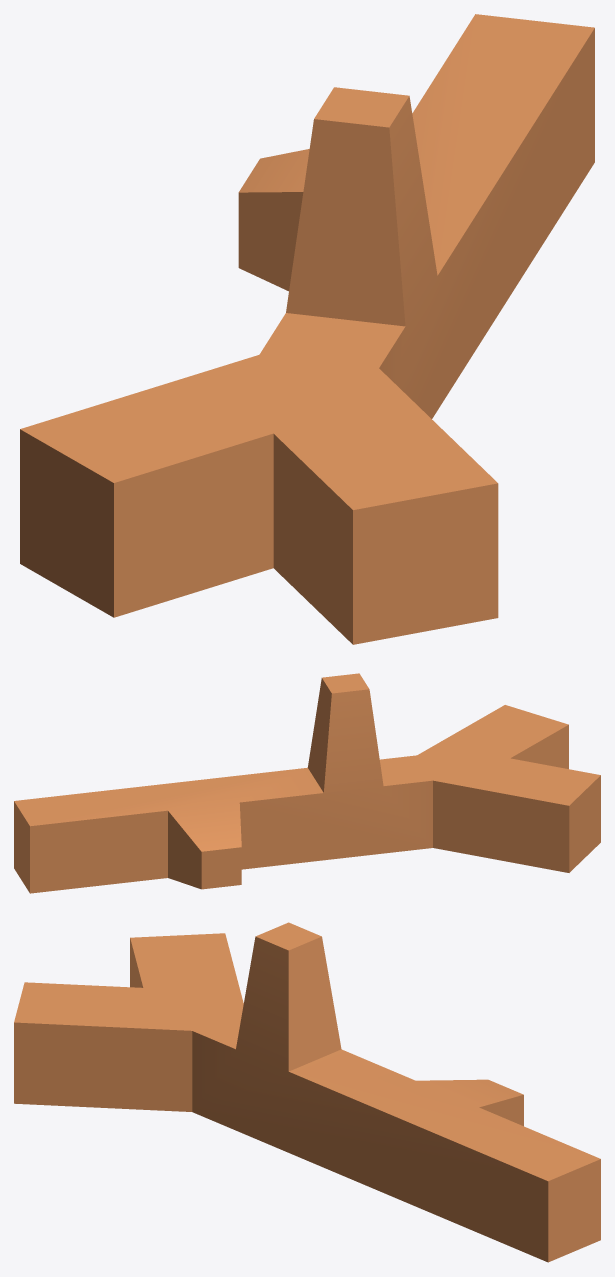
The model's file is resourceWood.fbx.
The picture shows the model from 3 angles, top to bottom: view 1: azimuth 30°, elevation 25°; view 2: azimuth 150°, elevation 25°; view 3: azimuth 270°, elevation 25°; orthographic projection. The views are drawn at different scales.
Parts seen in each view (by area): view 1: resourceWood; view 2: resourceWood; view 3: resourceWood.
Part boxes in pixels (x1,y1,x2,y2): resourceWood: (20, 14, 594, 644); resourceWood: (14, 673, 600, 893); resourceWood: (14, 922, 600, 1262).
Size of the model in its own units: 6.85 by 2.5 by 6.85.
